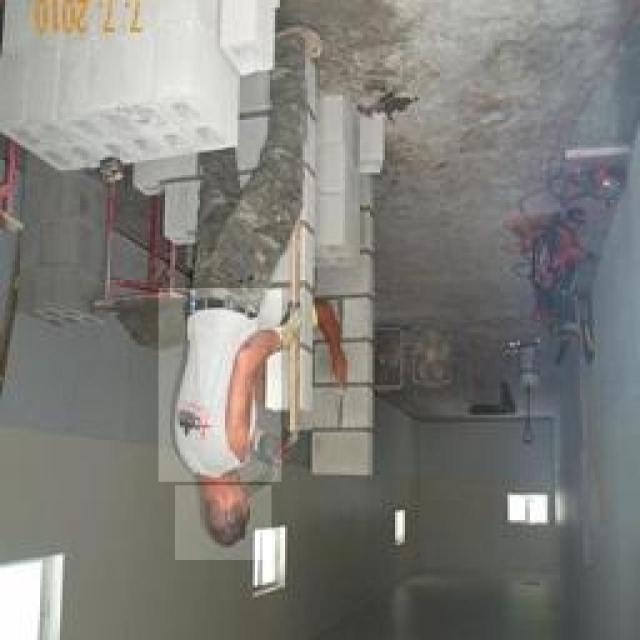Helmet: (158, 288, 282, 482), (175, 485, 271, 560)
